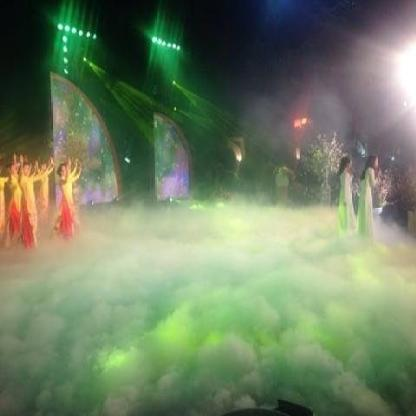smoke: (0, 199, 415, 415)
